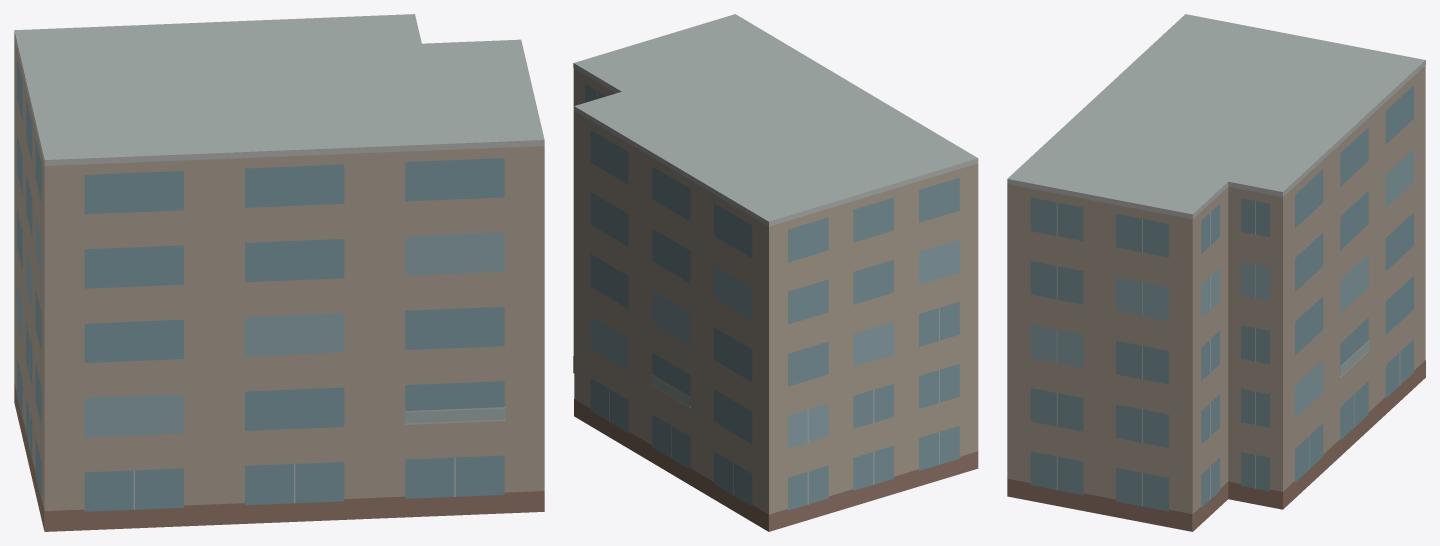
File: survey-upis-32634256.glb
The picture shows the model from 3 angles, left to right: view 1: azimuth 30°, elevation 25°; view 2: azimuth 150°, elevation 25°; view 3: azimuth 270°, elevation 25°; orthographic projection. The views are drawn at different scales.
Visible parts, largest first — view 1: survey-upis-32634256.tmp; view 2: survey-upis-32634256.tmp; view 3: survey-upis-32634256.tmp.
Boxes of the visible parts, left/top/right/bottom form: survey-upis-32634256.tmp: left=14, top=14, right=544, bottom=531; survey-upis-32634256.tmp: left=573, top=14, right=978, bottom=531; survey-upis-32634256.tmp: left=1007, top=14, right=1425, bottom=531.
Size of the model in its own units: 20.59 by 15.2 by 18.17.
